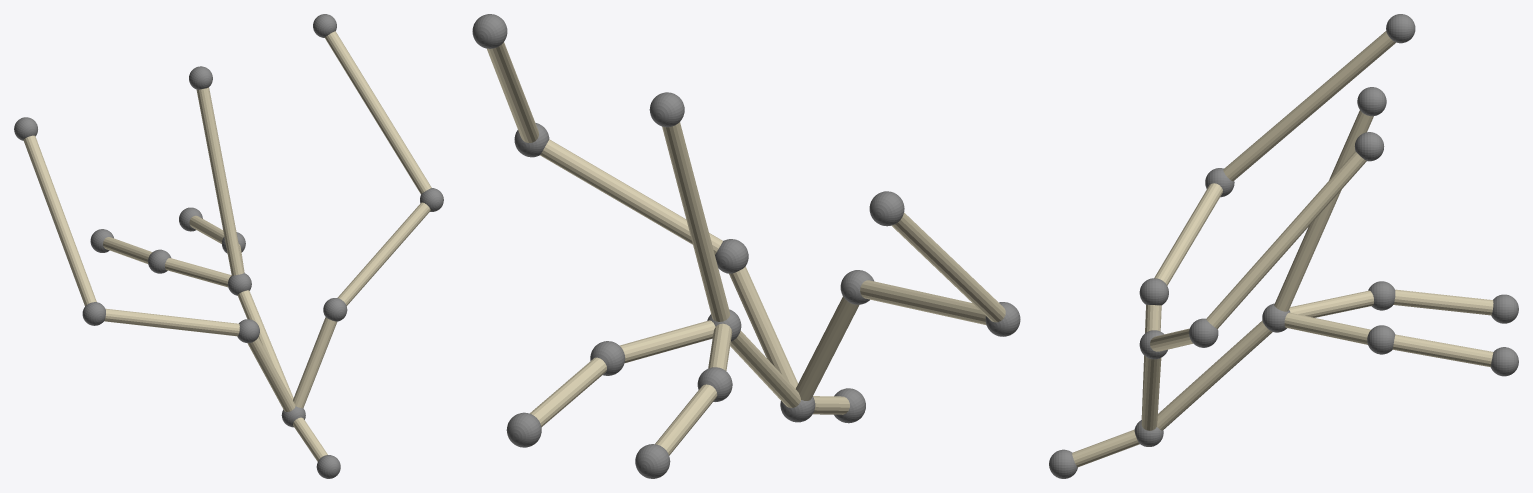
3 views of the same model, side by side, from view 1: azimuth 30°, elevation 25°; view 2: azimuth 150°, elevation 25°; view 3: azimuth 270°, elevation 25° (orthographic). The views are drawn at different scales.
Visible parts, largest first — view 1: world; view 2: world; view 3: world.
Boxes of the visible parts, x1=… form: world: x1=14, y1=14, x2=443, y2=478; world: x1=472, y1=14, x2=1020, y2=478; world: x1=1049, y1=14, x2=1518, y2=478.
Bounding box in the file's own units: 0.5053 × 0.4689 × 0.4795.
